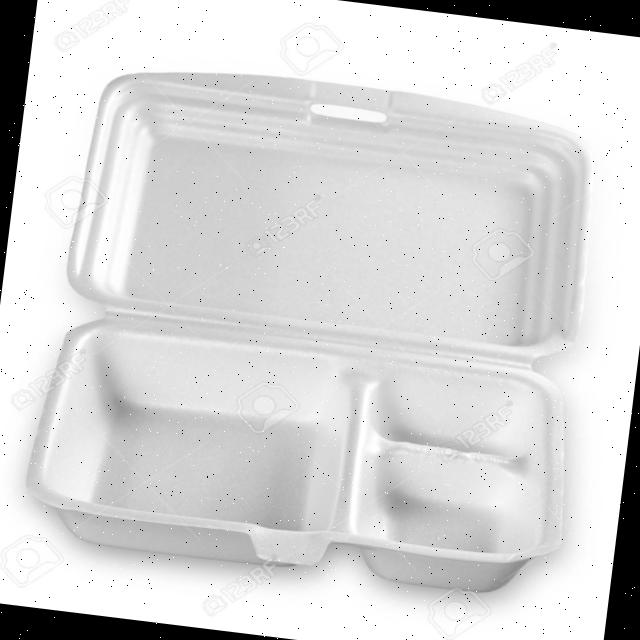styrofoam: (17, 49, 614, 604)
